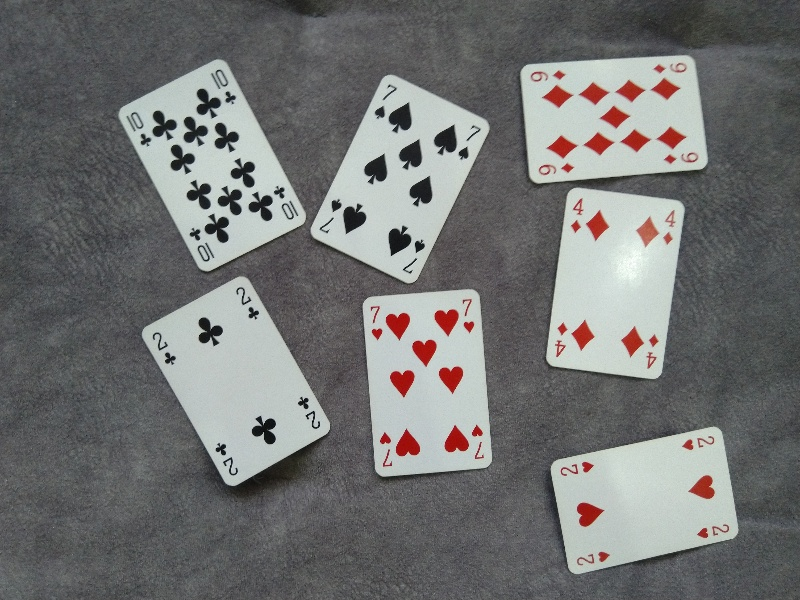2c: (149, 330, 178, 369), (212, 440, 239, 477), (235, 285, 260, 323), (297, 393, 322, 430)
2h: (690, 520, 735, 539), (555, 461, 599, 480), (683, 432, 718, 455), (573, 550, 614, 567)
4d: (551, 322, 570, 360), (644, 330, 662, 370), (660, 206, 678, 244), (568, 196, 585, 234)
7h: (376, 430, 394, 471), (469, 421, 487, 461), (459, 295, 477, 334), (368, 303, 385, 340)
7s: (315, 197, 347, 235), (457, 122, 485, 161), (400, 238, 428, 276), (373, 82, 400, 121)
9d: (533, 159, 581, 176), (654, 59, 692, 78), (529, 67, 568, 84), (662, 151, 701, 166)
Tc: (209, 67, 238, 106), (125, 110, 154, 148), (188, 225, 215, 264), (270, 185, 299, 220)
